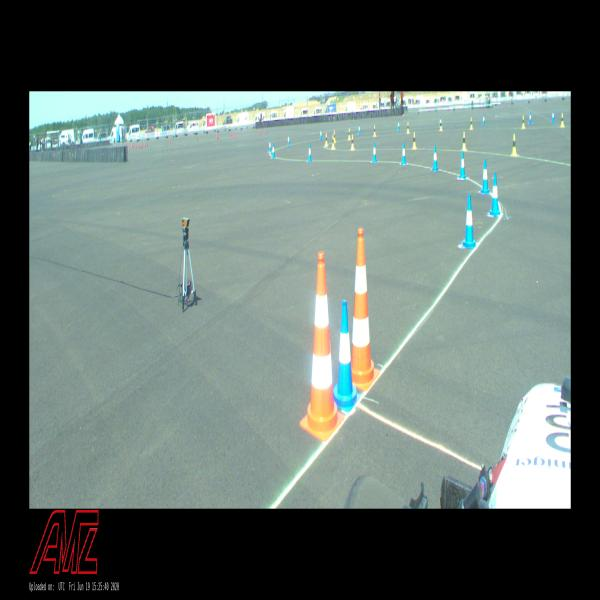blue_cone: (334, 302, 360, 413), (462, 195, 476, 249), (488, 173, 501, 215), (481, 159, 490, 194), (459, 151, 466, 179), (432, 145, 438, 170), (401, 143, 406, 164), (372, 143, 377, 162), (307, 144, 312, 162), (551, 110, 555, 123), (268, 140, 272, 152), (272, 143, 275, 158), (287, 134, 290, 147), (529, 112, 532, 124), (482, 114, 485, 125), (358, 124, 361, 134), (397, 120, 400, 130), (320, 129, 322, 140), (439, 117, 441, 126)
large_orange_cone: (300, 251, 344, 441), (352, 228, 379, 390)
yellow_cone: (511, 134, 518, 156), (412, 132, 417, 150), (462, 132, 467, 150), (331, 134, 335, 150), (560, 113, 564, 126), (439, 119, 443, 131), (351, 135, 354, 151), (325, 133, 328, 147), (470, 117, 473, 130), (522, 116, 525, 128), (373, 125, 376, 137), (407, 122, 410, 134), (348, 128, 351, 140), (334, 130, 336, 143)
